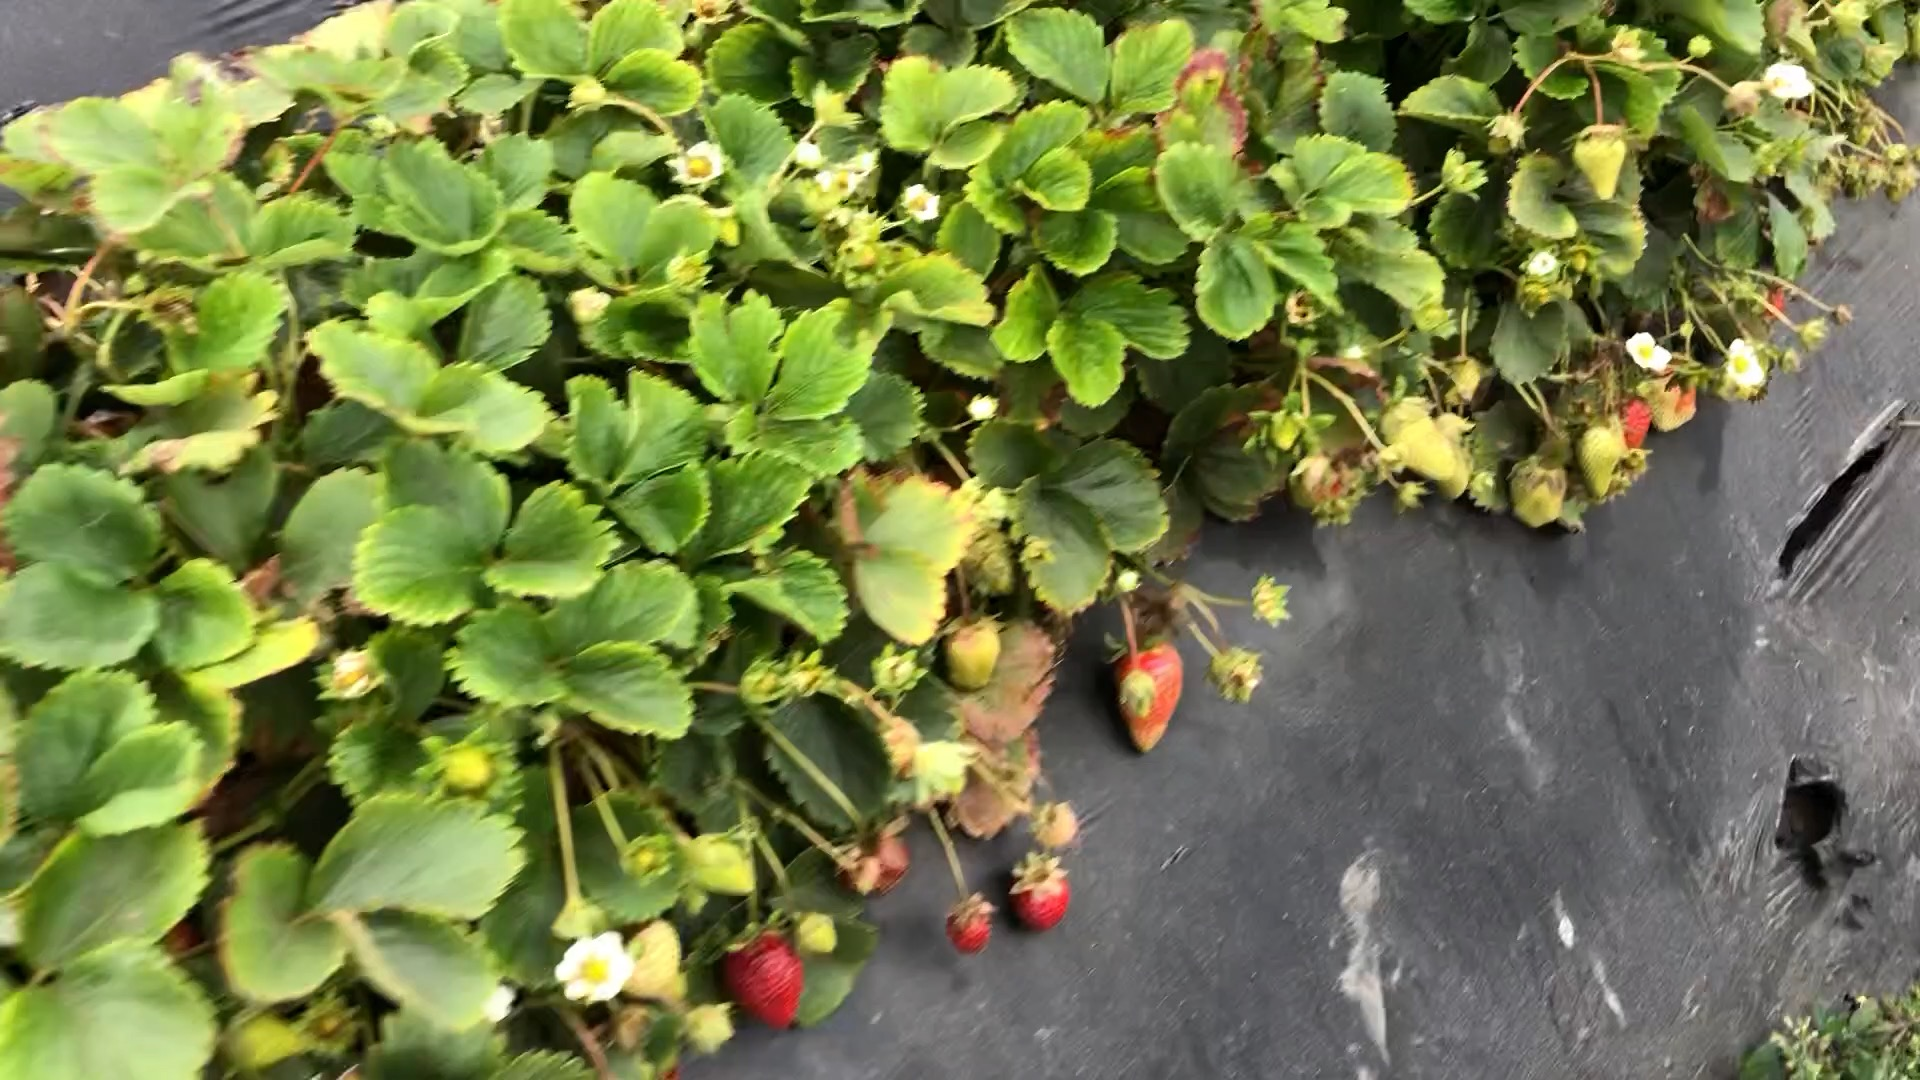ripe_strawberry: (723, 926, 807, 1035), (833, 822, 916, 901), (1010, 862, 1073, 936), (944, 899, 994, 957)
unripe_strawberry: (1110, 638, 1184, 756), (1379, 396, 1458, 483), (680, 829, 760, 897), (940, 612, 1002, 691), (1571, 131, 1629, 203), (1575, 419, 1625, 502), (1639, 373, 1702, 436), (1606, 396, 1654, 451), (791, 910, 839, 956), (1485, 113, 1524, 161)
